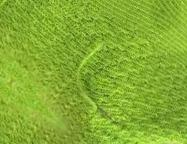snag: (75, 39, 106, 122)
